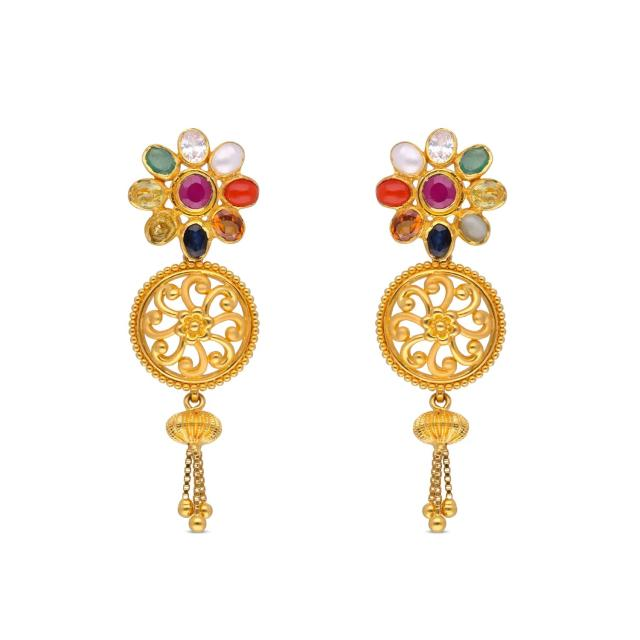missing gem: (148, 215, 175, 243)
